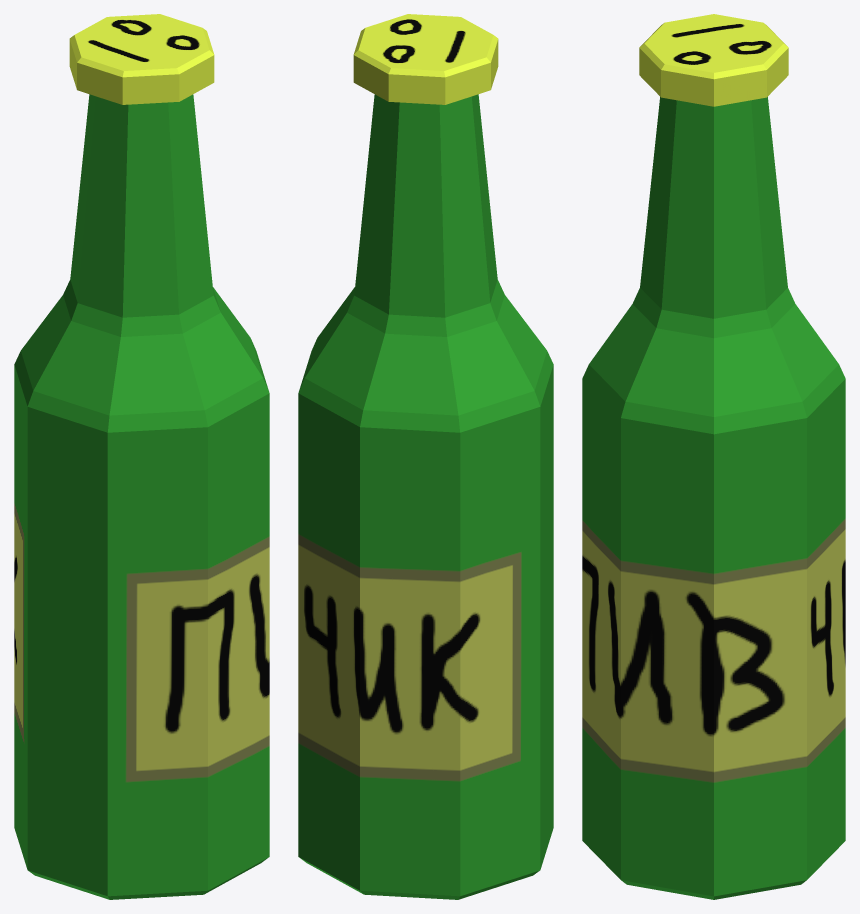
The model's file is bottle.fbx.
3 renders of one model, left to right at view 1: azimuth 30°, elevation 25°; view 2: azimuth 150°, elevation 25°; view 3: azimuth 270°, elevation 25°, orthographic.
Parts seen in each view (by area): view 1: Circle; view 2: Circle; view 3: Circle.
Part boxes in pixels (left/top/right/bottom): Circle: left=14, top=14, right=269, bottom=899; Circle: left=298, top=14, right=553, bottom=899; Circle: left=582, top=14, right=845, bottom=899.
Size of the model in its own units: 12.49 by 42.07 by 12.49.
